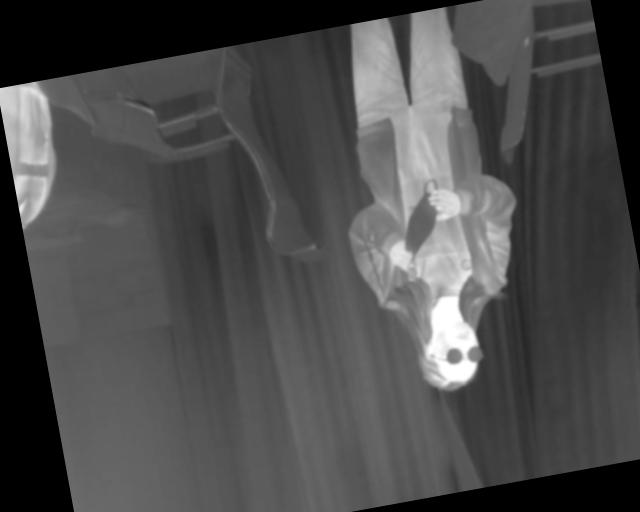face: (414, 317, 489, 397)
